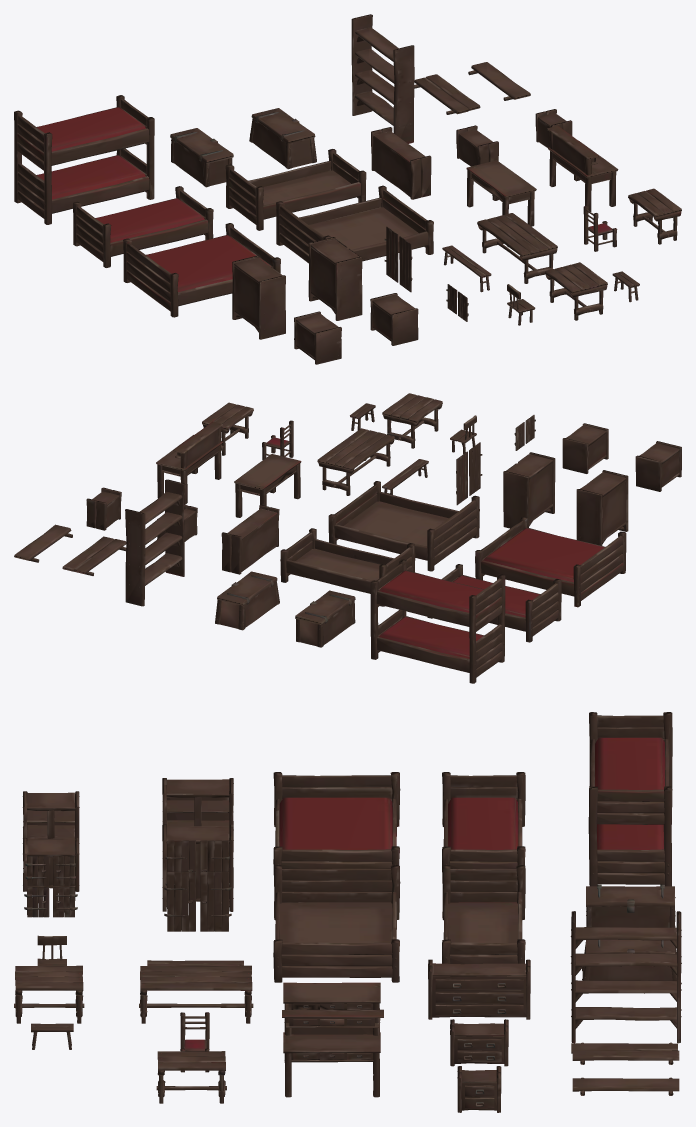
The model's file is furniture_set.glb.
The picture shows the model from 3 angles, top to bottom: view 1: azimuth 30°, elevation 25°; view 2: azimuth 150°, elevation 25°; view 3: azimuth 270°, elevation 25°; orthographic projection. The views are drawn at different scales.
Parts seen in each view (by area): view 1: defaultMaterial; view 2: defaultMaterial; view 3: defaultMaterial.
Boxes of the visible parts, x1,y1,x2,y2 form: defaultMaterial: [14, 14, 681, 364]; defaultMaterial: [14, 393, 681, 683]; defaultMaterial: [14, 712, 681, 1112].
Bounding box in the file's own units: 93.98 × 18.3 × 90.94.
1 material, 1 textured.
